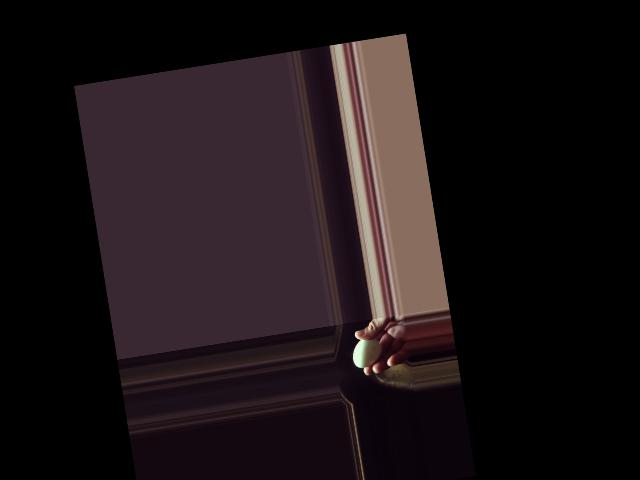egg: (350, 336, 383, 368)
